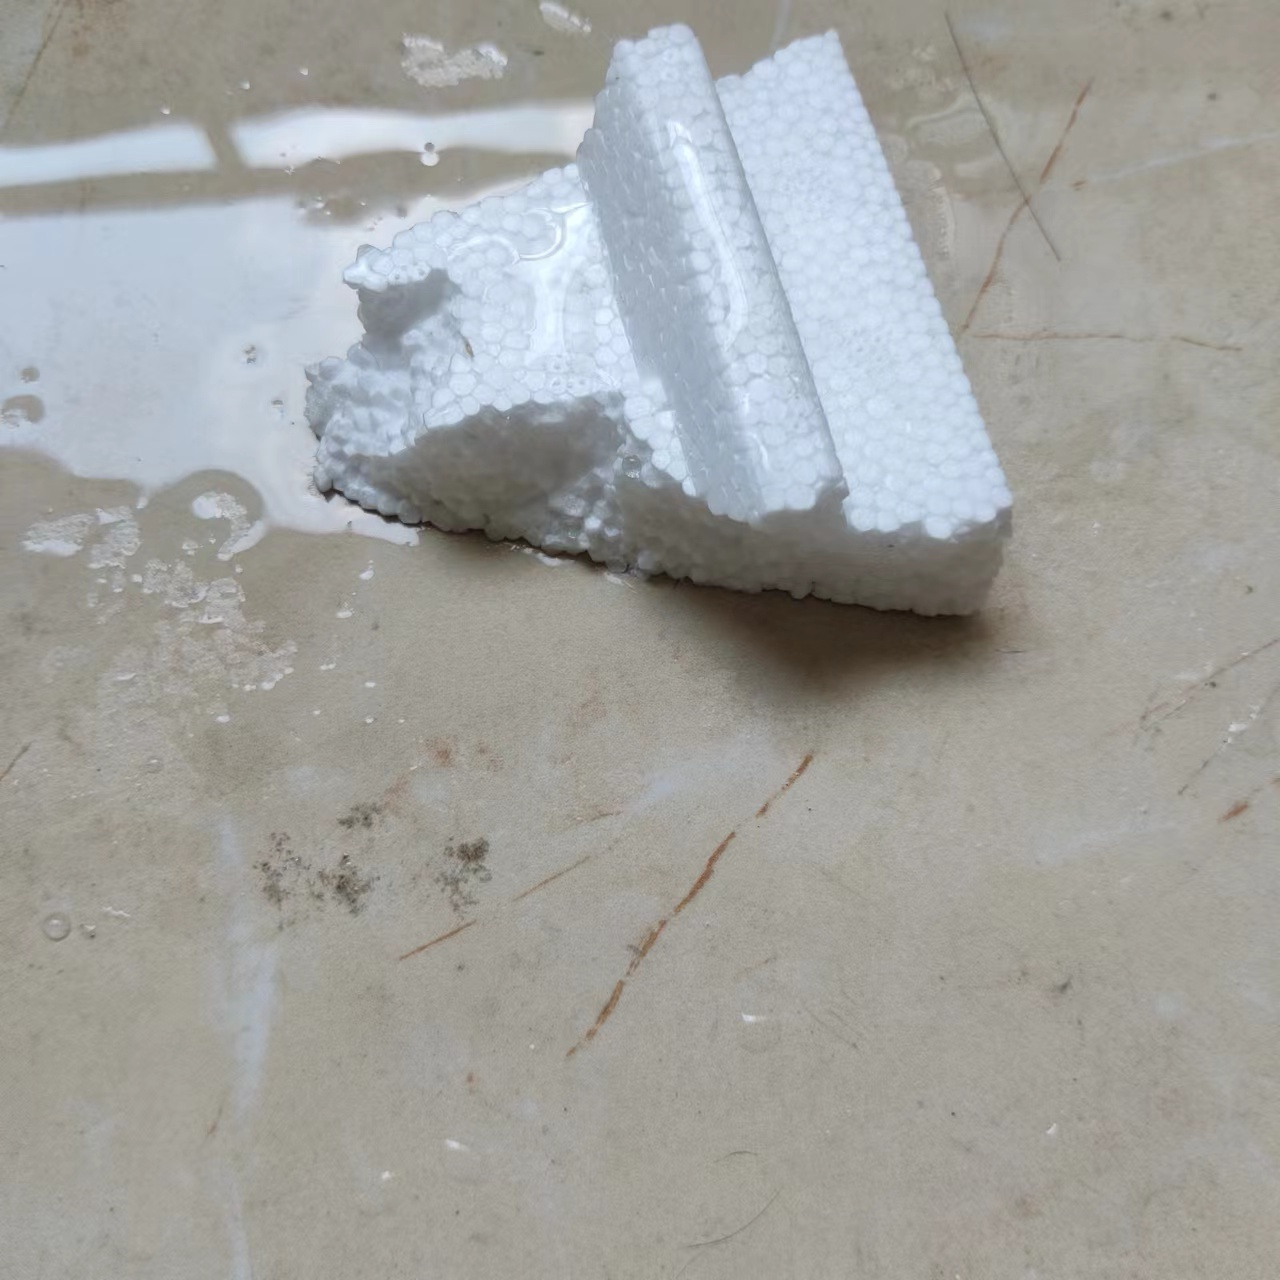5/可回收垃圾/泡沫: (302, 23, 1014, 620)
